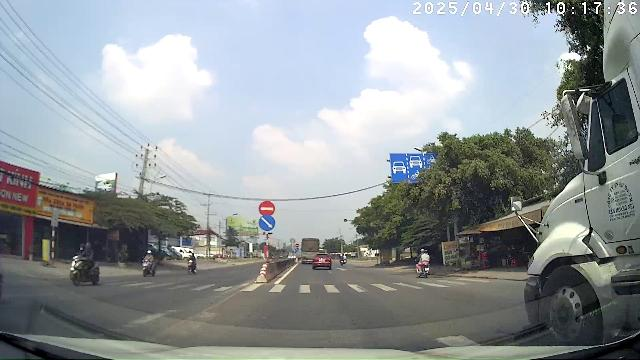102-cam-di-nguoc-chieu: (259, 201, 275, 215)
302a-huong-phai-di-vong-chuong-ngai-vat-1: (259, 215, 276, 231)
